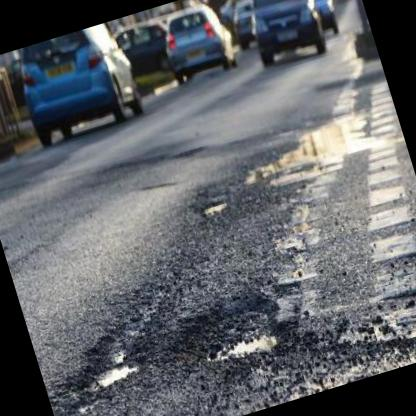pothole: (180, 290, 290, 374), (58, 316, 150, 396), (198, 196, 229, 218)
